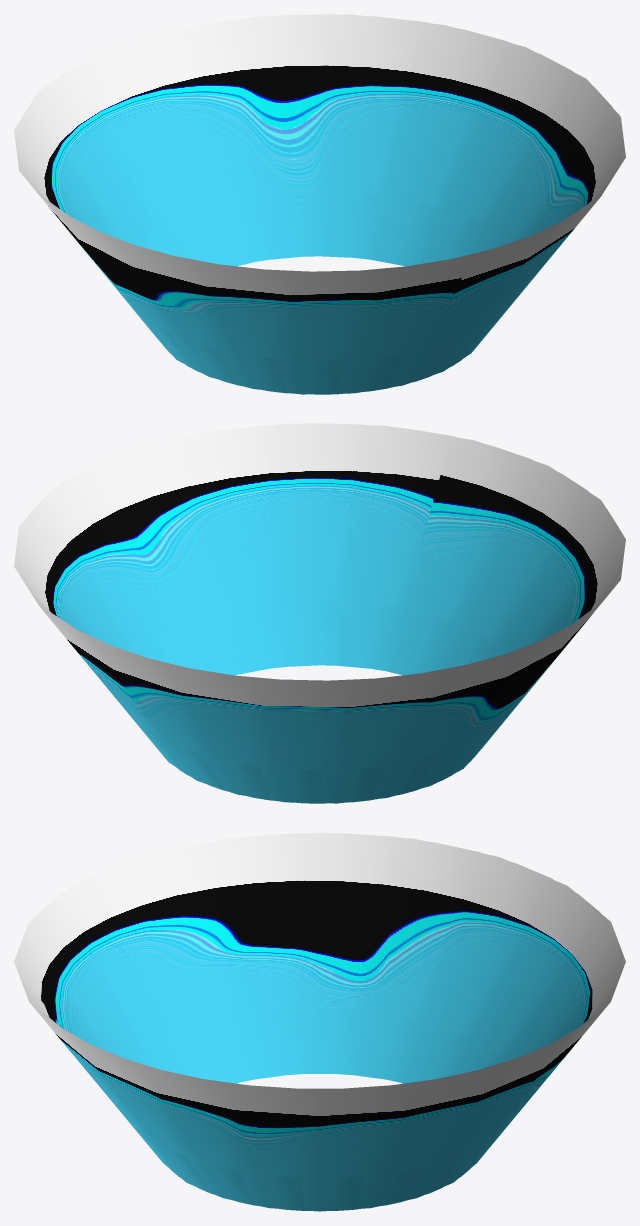
The model's file is auraeffect.fbx.
The picture shows the model from 3 angles, top to bottom: view 1: azimuth 30°, elevation 25°; view 2: azimuth 150°, elevation 25°; view 3: azimuth 270°, elevation 25°; orthographic projection.
Parts seen in each view (by area): view 1: auraeffect; view 2: auraeffect; view 3: auraeffect.
Part boxes in pixels (x1=…): auraeffect: x1=14, y1=14, x2=625, y2=394; auraeffect: x1=14, y1=423, x2=625, y2=803; auraeffect: x1=14, y1=832, x2=625, y2=1211.
Bounding box in the file's own units: 6.62 × 2.17 × 6.62.
Materials: 1 (1 with a texture image).
